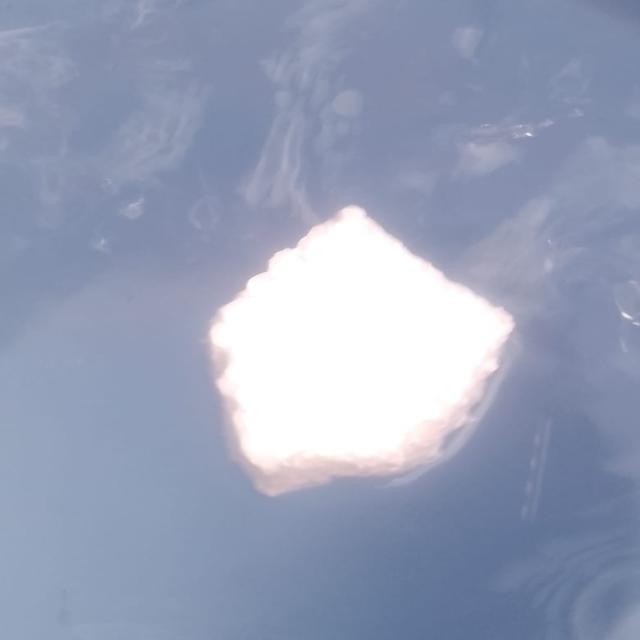thermocoal: (185, 197, 524, 502)
